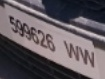2: (38, 29, 48, 48)
5: (9, 15, 17, 33)
6: (46, 32, 56, 53), (30, 26, 39, 45)
9: (16, 19, 24, 37), (23, 22, 31, 40)
w: (62, 40, 80, 61), (78, 47, 96, 68)
